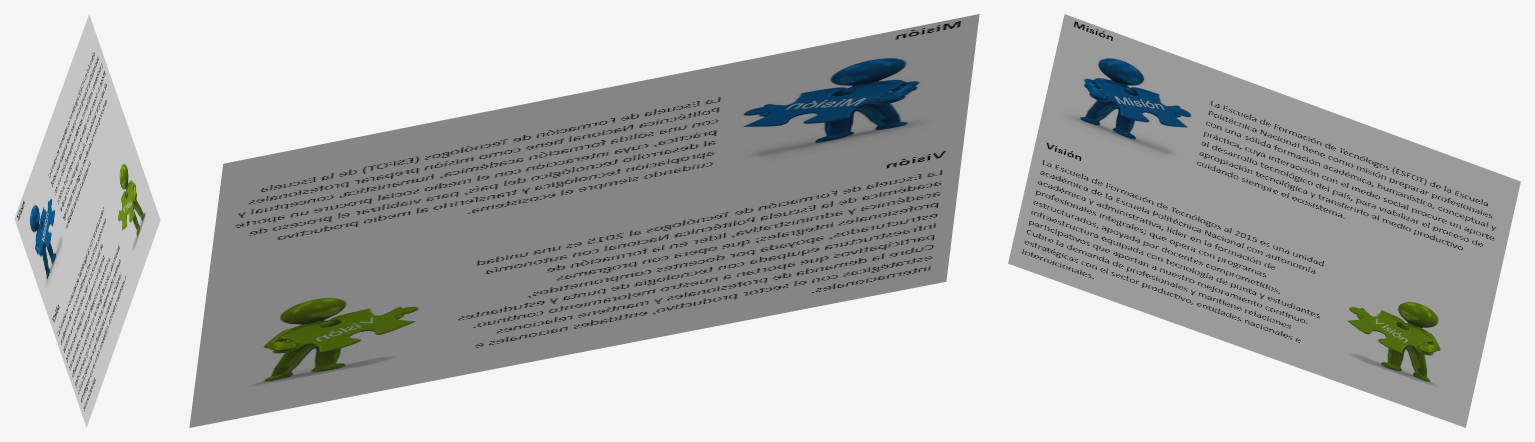
Rendered from esfot.glb.
3 renders of one model, left to right at view 1: azimuth 30°, elevation 25°; view 2: azimuth 150°, elevation 25°; view 3: azimuth 270°, elevation 25°, orthographic. The views are drawn at different scales.
Visible parts, largest first — view 1: Cube; view 2: Cube; view 3: Cube.
Boxes of the visible parts, x1=… form: Cube: x1=14, y1=14, x2=160, y2=427; Cube: x1=189, y1=14, x2=979, y2=427; Cube: x1=1008, y1=14, x2=1520, y2=427.
Size of the model in its own units: 3.26 by 2.03 by 3.99.
Materials: 1 (1 with a texture image).
